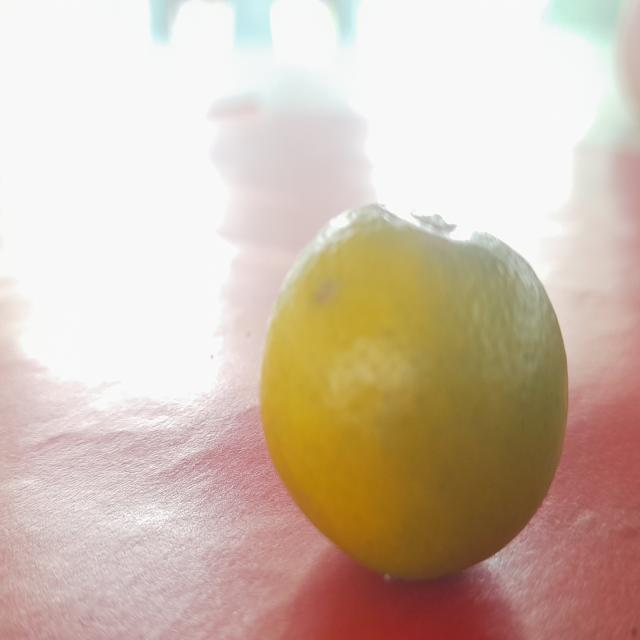greening: (260, 198, 568, 576)
